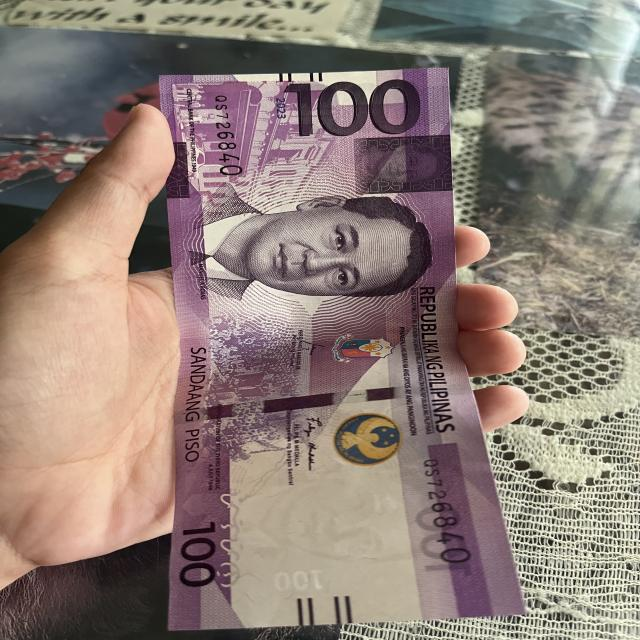concealed_value: (352, 132, 451, 194)
security_thread: (204, 382, 468, 419)
see_through_mark: (208, 484, 250, 592)
serial_number: (413, 451, 487, 571), (203, 90, 256, 185)
value: (277, 75, 420, 138)
value_watermark: (266, 562, 331, 596)
watermark: (242, 454, 466, 575)
